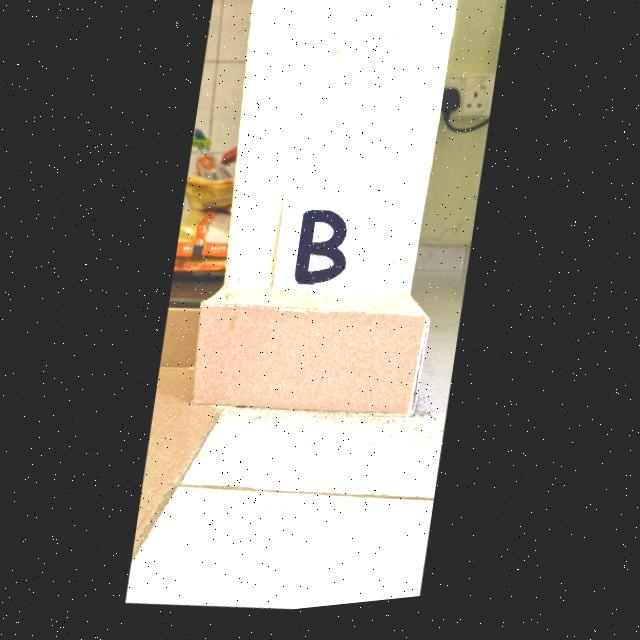B: (295, 217, 347, 291)
